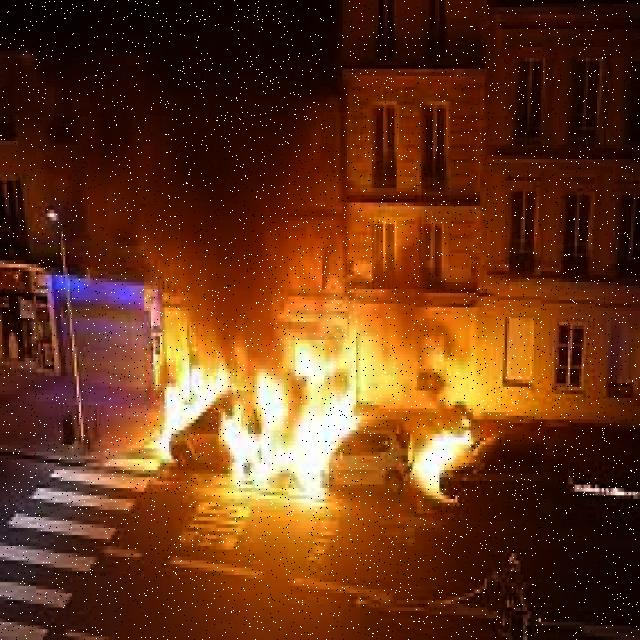fire: (248, 369, 366, 507), (409, 418, 485, 508), (169, 369, 227, 429)
smoke: (134, 21, 324, 312)
